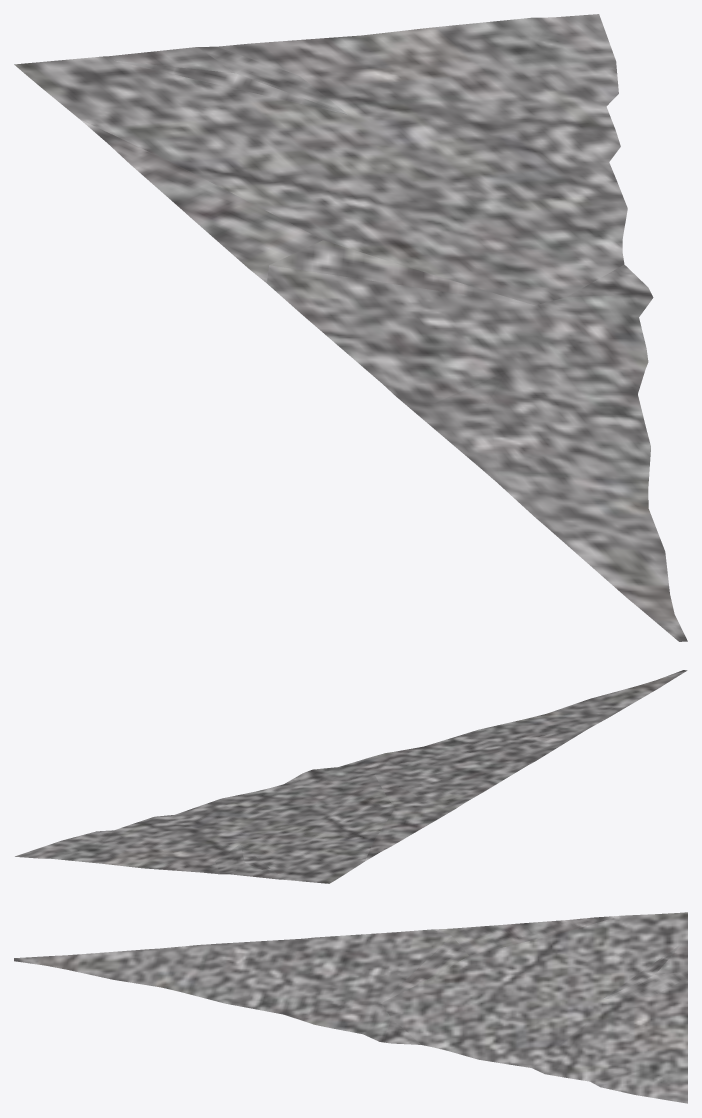
The picture shows the model from 3 angles, top to bottom: view 1: azimuth 30°, elevation 25°; view 2: azimuth 150°, elevation 25°; view 3: azimuth 270°, elevation 25°; orthographic projection. The views are drawn at different scales.
Bounding box in the file's own units: 0.4253 × 0.0641 × 0.8373.
1 material, 1 textured.
